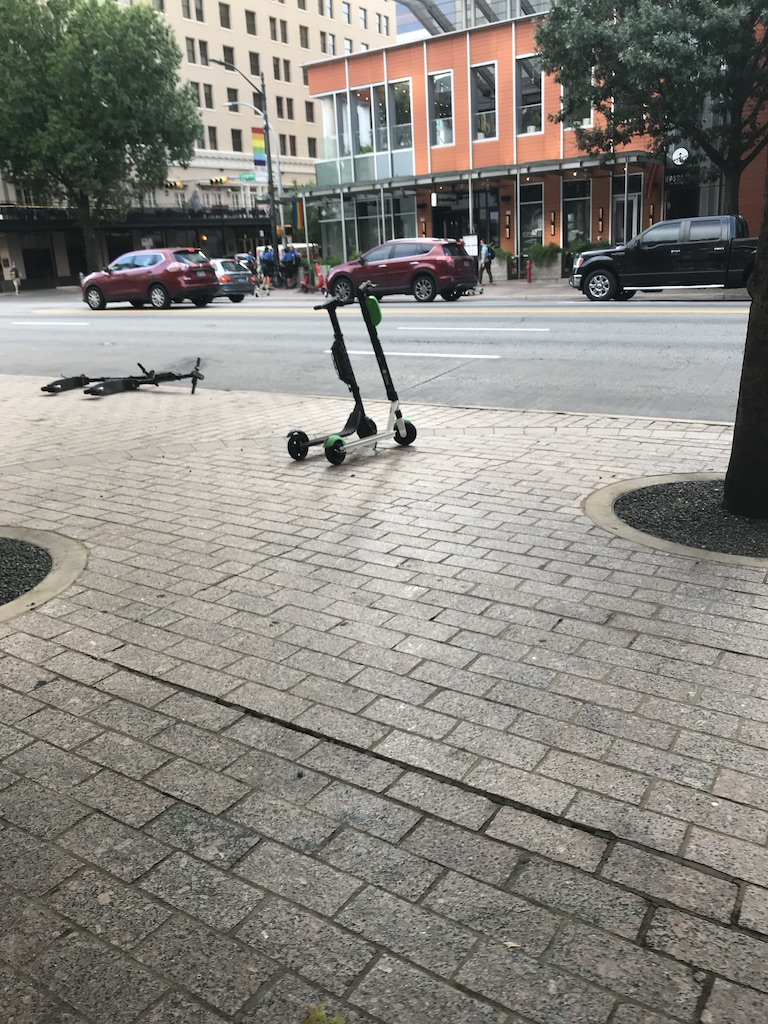scooter: (322, 278, 420, 465), (285, 299, 378, 462), (91, 358, 202, 397), (43, 361, 150, 394)
